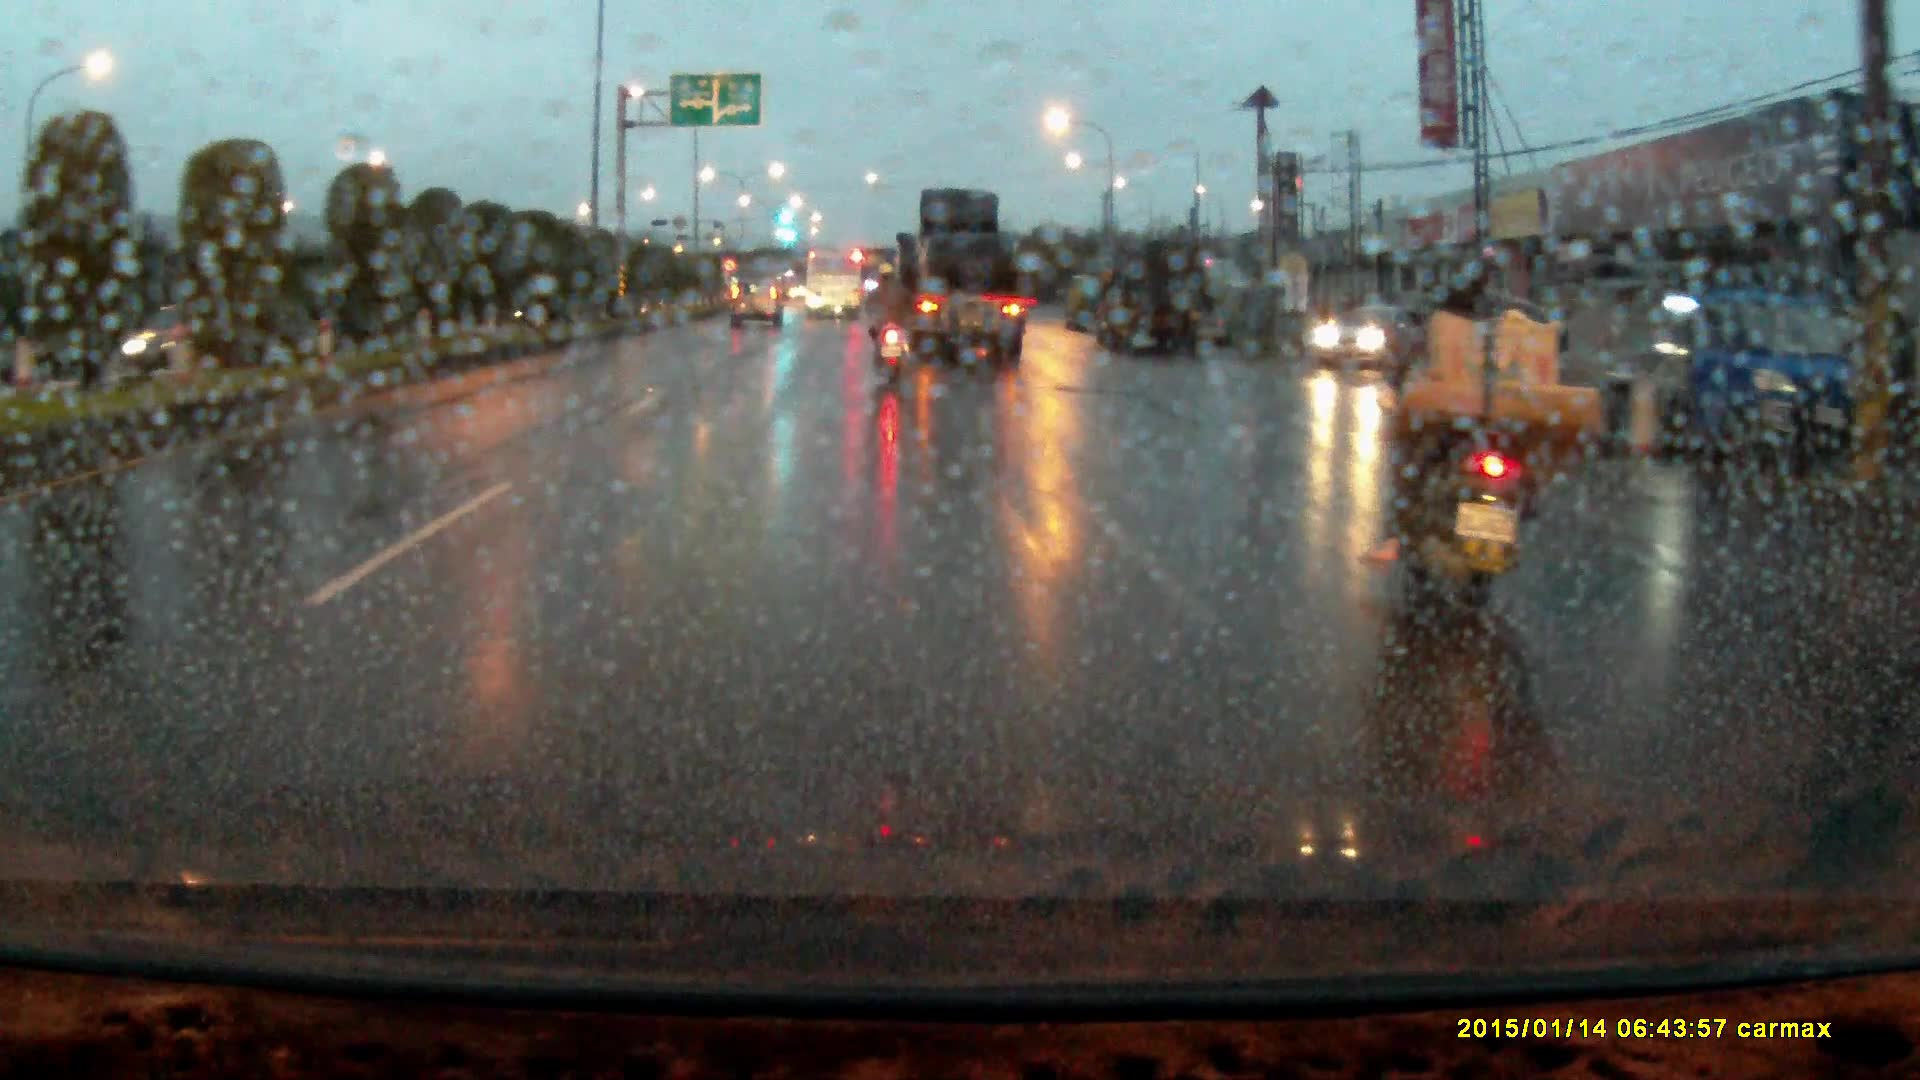rider: (1373, 250, 1612, 660), (865, 265, 919, 383)
vehicle: (1592, 287, 1854, 467), (882, 197, 1021, 372), (1103, 249, 1215, 366), (1310, 309, 1416, 374), (805, 254, 864, 329), (1063, 279, 1114, 339), (731, 287, 786, 337)
